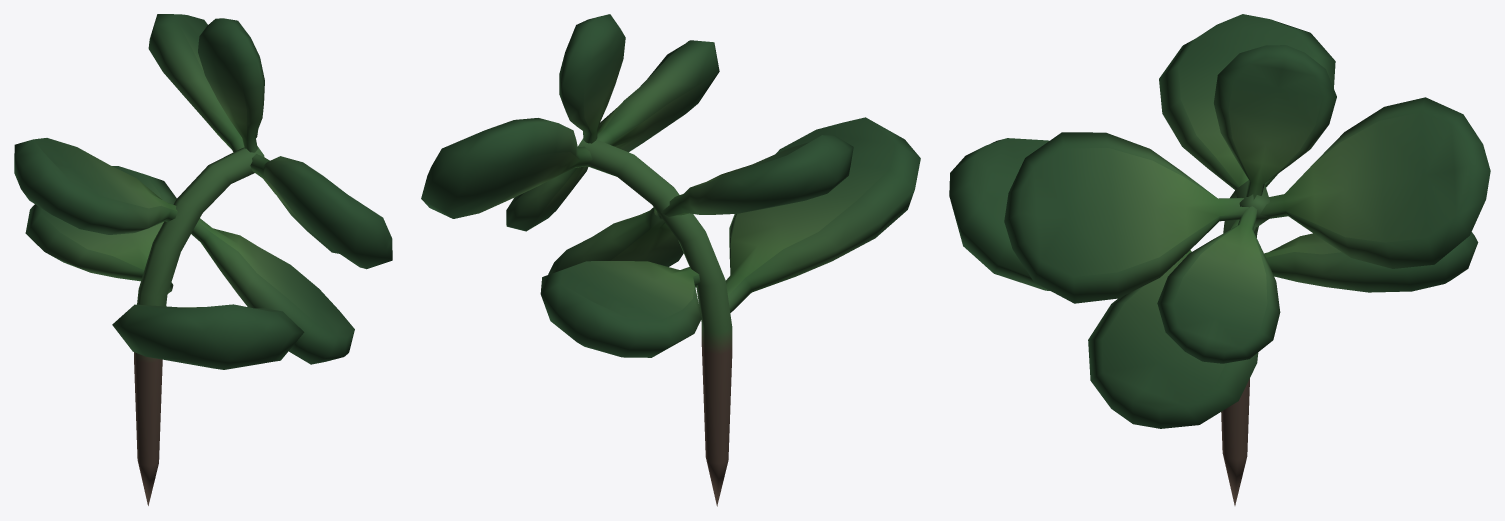
Rendered from plants-cacti-succulents-jade-plant_v3.glb.
3 views of the same model, side by side, from view 1: azimuth 30°, elevation 25°; view 2: azimuth 150°, elevation 25°; view 3: azimuth 270°, elevation 25° (orthographic). The views are drawn at different scales.
Visible parts, largest first — view 1: Jade Plant_v3; view 2: Jade Plant_v3; view 3: Jade Plant_v3.
Part boxes in pixels (x1=…): Jade Plant_v3: x1=14, y1=14, x2=392, y2=505; Jade Plant_v3: x1=421, y1=14, x2=920, y2=506; Jade Plant_v3: x1=949, y1=14, x2=1490, y2=505.
Bounding box in the file's own units: 0.2256 × 0.3 × 0.2849.
